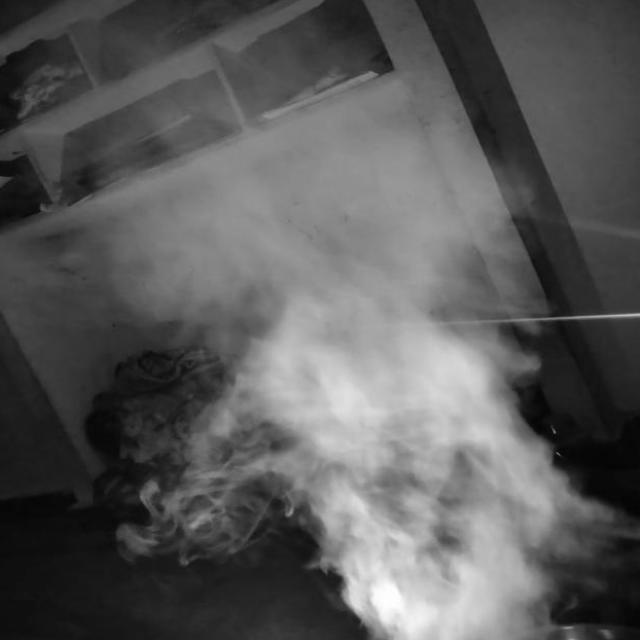fire: (209, 103, 564, 640)
